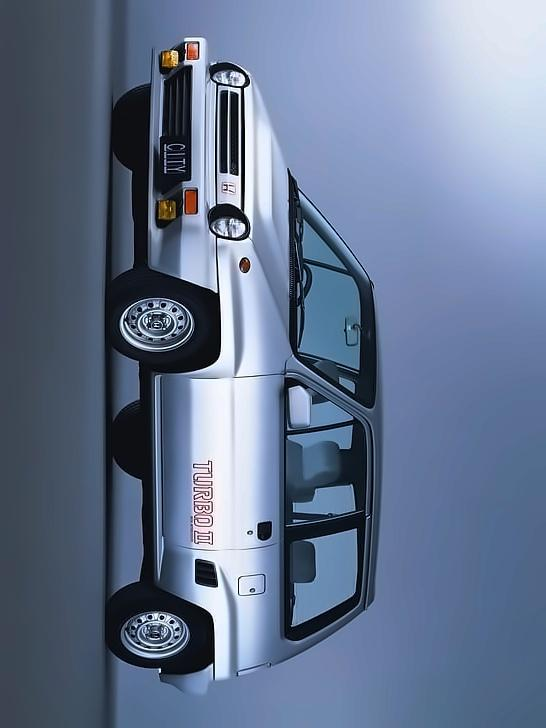Car hood: (237, 63, 301, 344)
Fender - -F-L-: (133, 257, 338, 382)
Fender - -R-L-: (146, 552, 325, 685)
Front bumper: (136, 22, 219, 297)
Headlight - -L-: (197, 193, 258, 249)
Headlight - -R-: (193, 52, 262, 97)
Passenger-s door - -F-L-: (150, 376, 390, 558)
Rear bumper: (140, 647, 232, 715)
Side bumper - -L-: (129, 357, 177, 597)
Side mirror - -L-: (276, 369, 320, 436)
